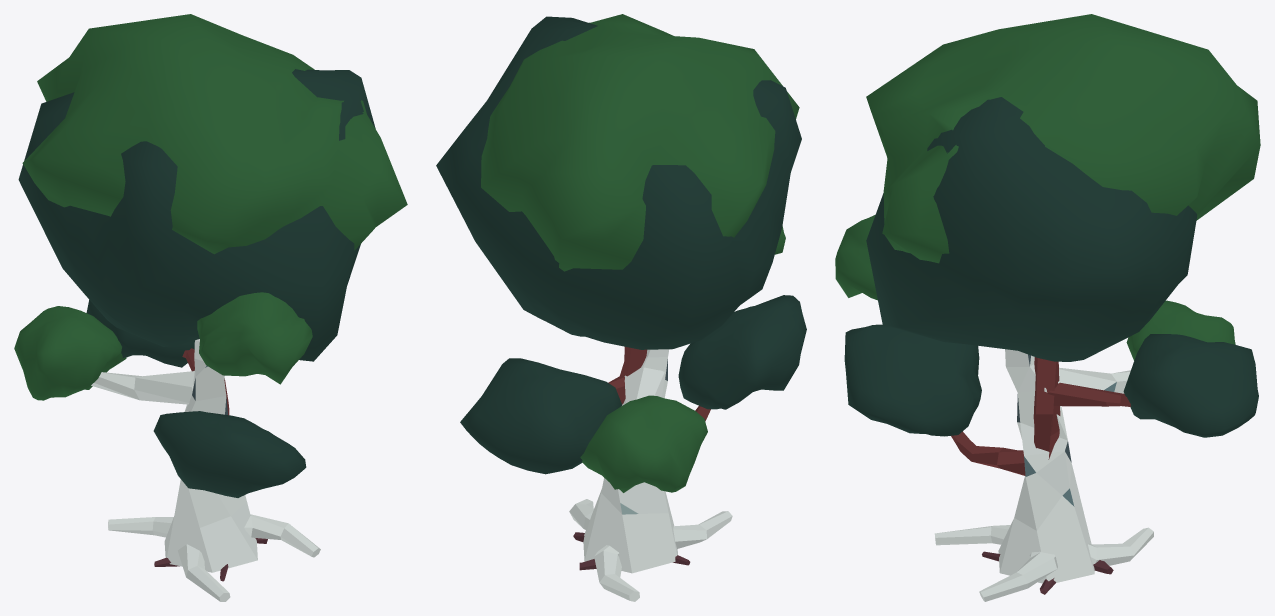
The model's file is tree_assets.glb.
3 renders of one model, left to right at view 1: azimuth 30°, elevation 25°; view 2: azimuth 150°, elevation 25°; view 3: azimuth 270°, elevation 25°, orthographic. The views are drawn at different scales.
Visible parts, largest first — view 1: Birch, Oak; view 2: Birch, Oak; view 3: Oak, Birch.
Boxes of the visible parts, left/top/right/bottom form: Birch: left=14, top=14, right=407, bottom=601; Oak: left=18, top=69, right=375, bottom=581; Birch: left=481, top=14, right=799, bottom=601; Oak: left=436, top=16, right=806, bottom=570; Oak: left=844, top=97, right=1258, bottom=594; Birch: left=835, top=14, right=1260, bottom=601.
Size of the model in its own units: 2.5 by 3.9 by 2.83.
1 material, 1 textured.
